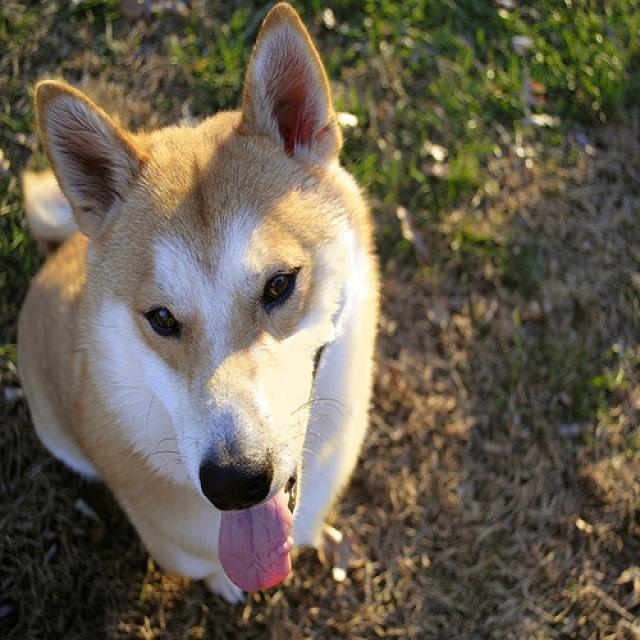dog-shiba_inu: (9, 2, 385, 613)
